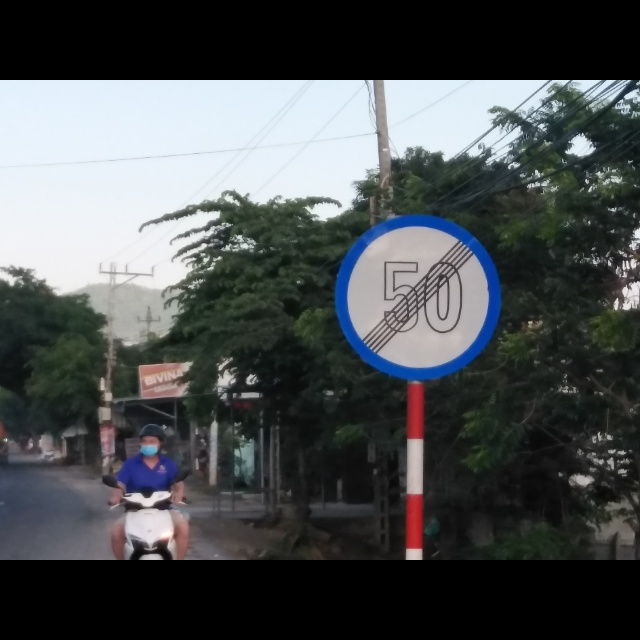Hết hạn chế tốc độ tối đa 50km/h: (331, 208, 503, 383)
